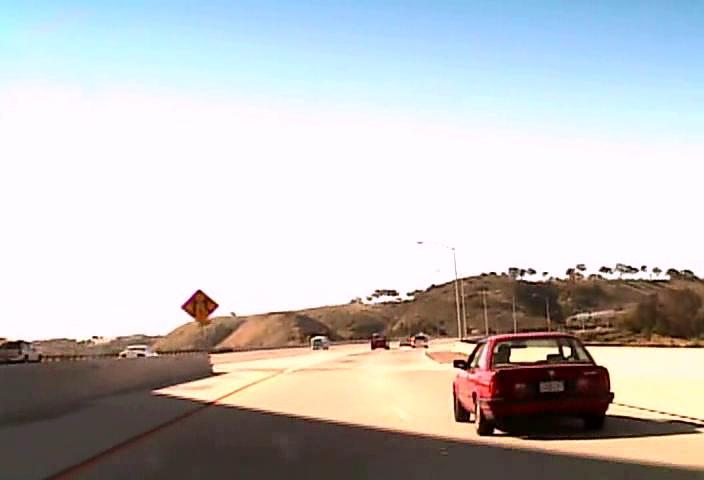addedLane: (179, 289, 219, 325)
